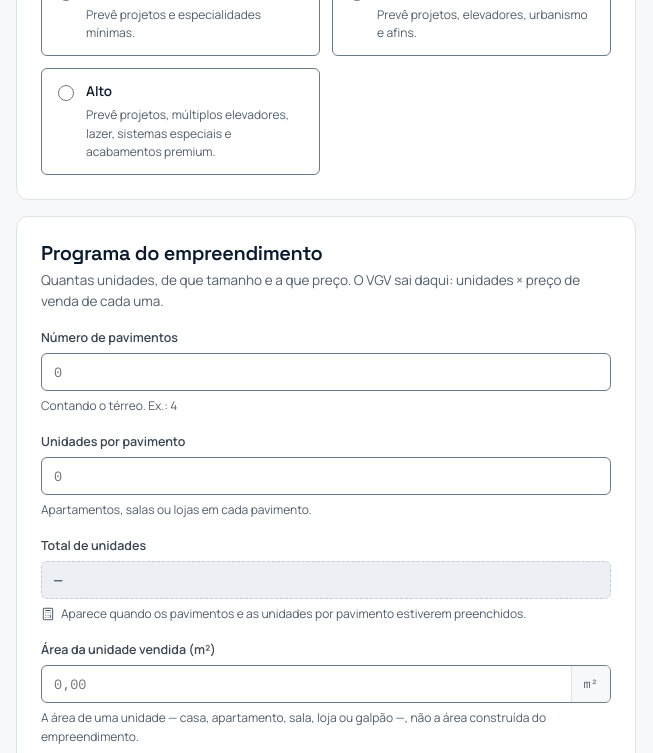
Test: Produto › com a Etapa 1 válida › programa do empreendimento (F10) › fração de pavimento é recusada, não arredondada
(page scrolled)
Type "4,5" into the field labelled "Número de pavimentos" at (326, 372), box [42,354,610,390]
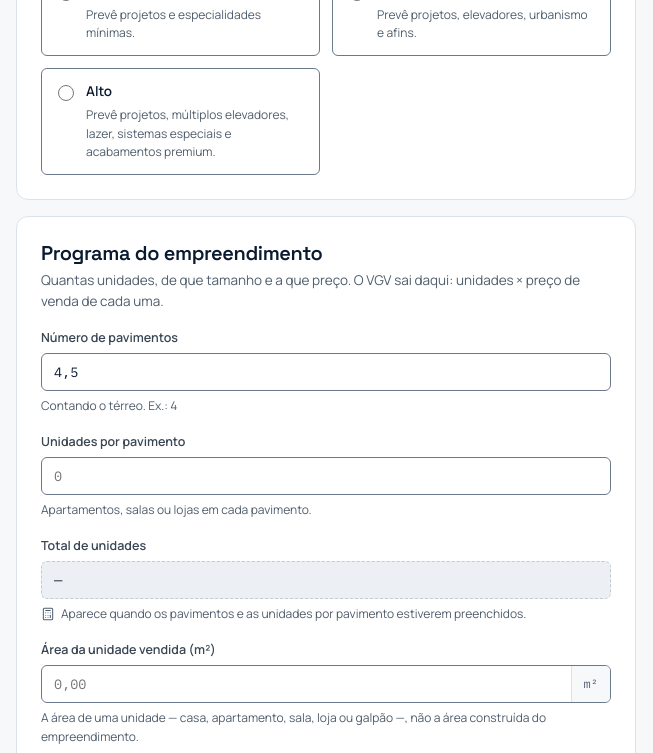
Leave the field labelled "Número de pavimentos", box [42,354,610,390]
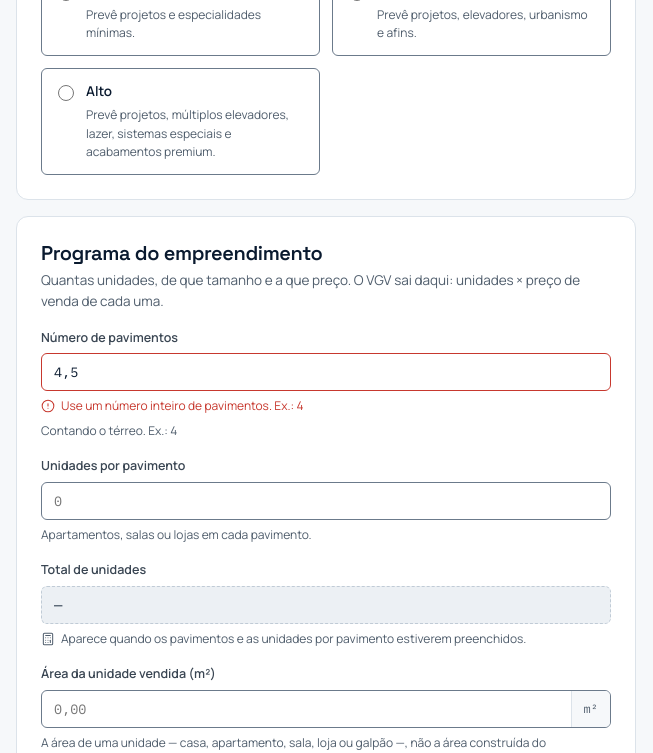
Result: the text "Use um número inteiro de pavimentos. Ex.: 4" is shown at [41,397,304,414]
